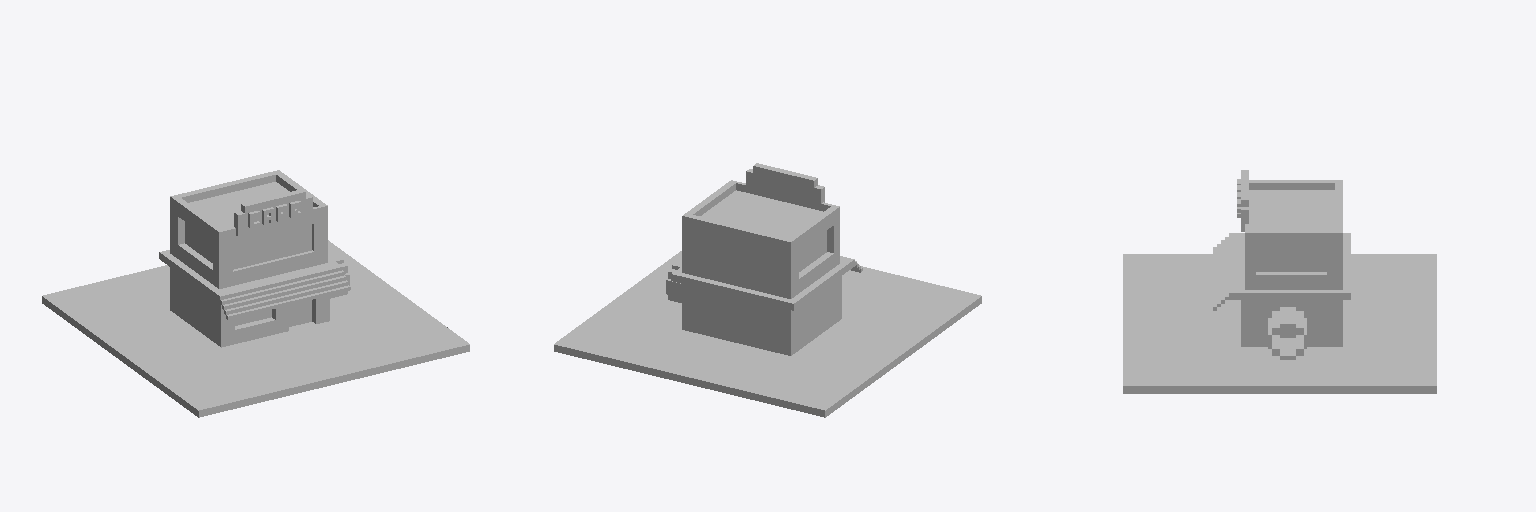
The model's file is shop.obj.
3 renders of one model, left to right at view 1: azimuth 30°, elevation 25°; view 2: azimuth 150°, elevation 25°; view 3: azimuth 270°, elevation 25°, orthographic.
Visible parts, largest first — view 1: object 1; view 2: object 1; view 3: object 1.
Part boxes in pixels (left/top/right/bottom): object 1: left=42, top=170, right=469, bottom=417; object 1: left=554, top=163, right=981, bottom=417; object 1: left=1123, top=170, right=1436, bottom=393.
Bounding box in the file's own units: 8 × 4 × 8.